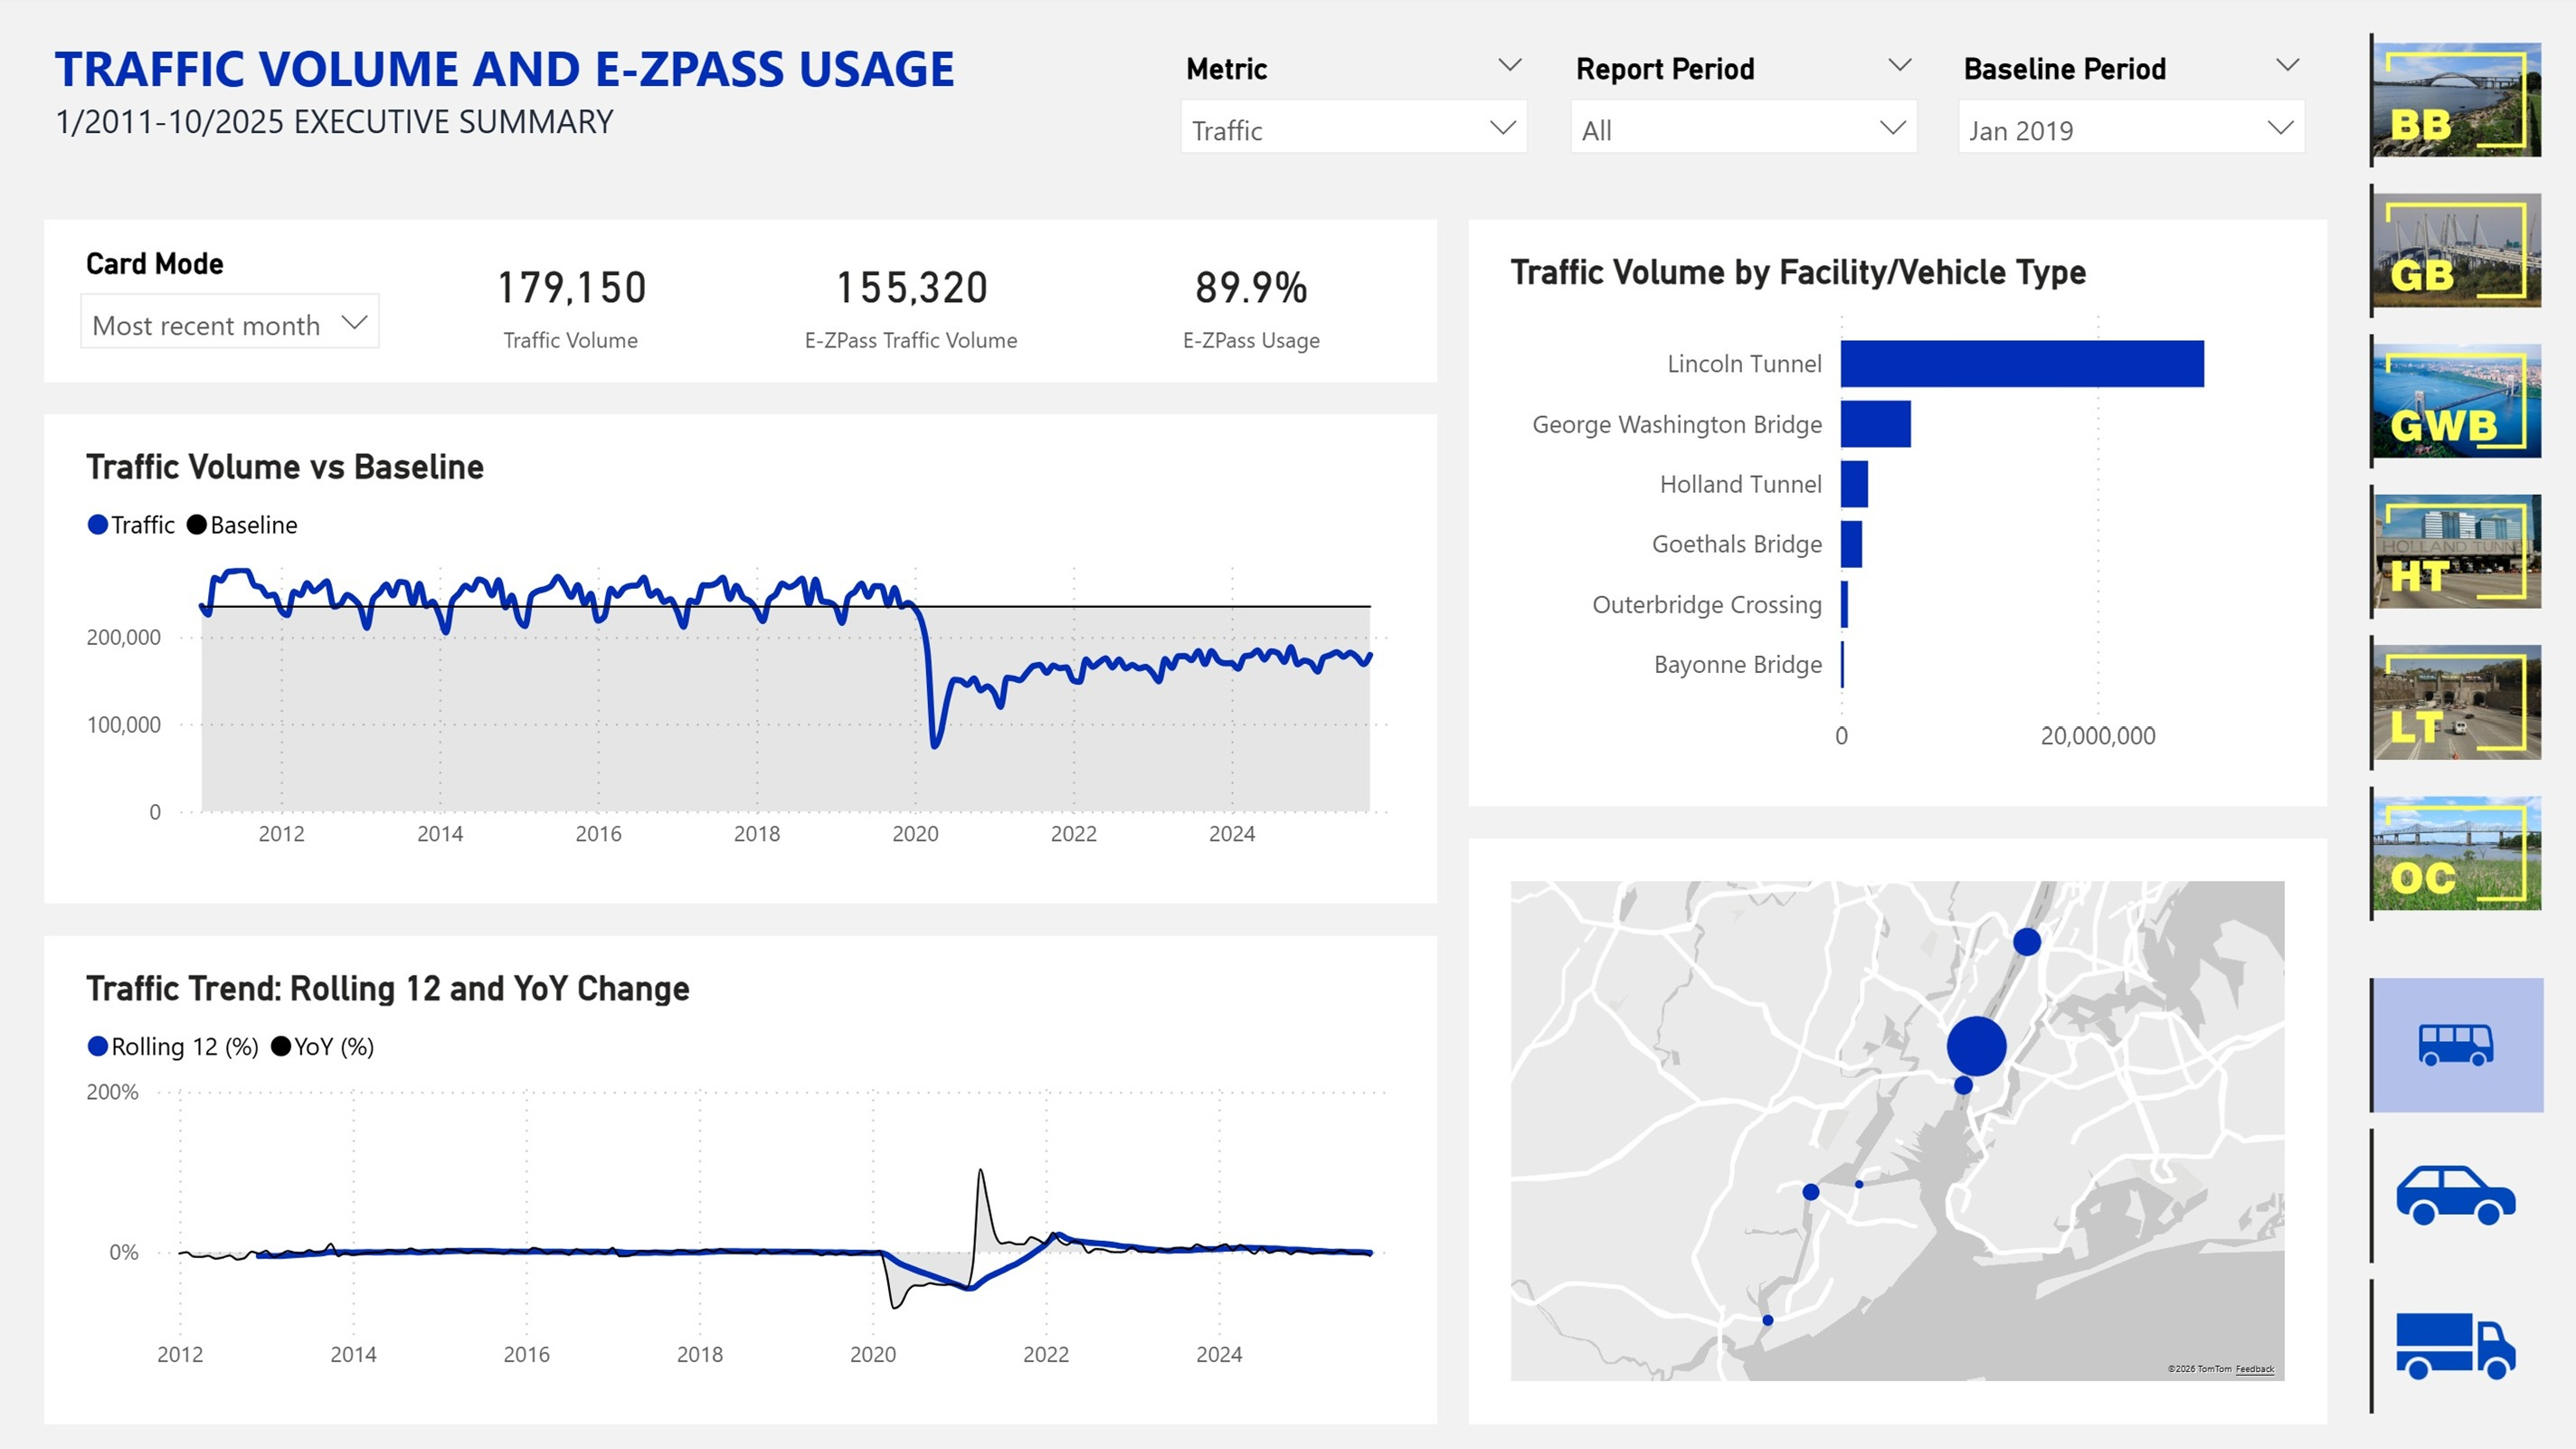

This screenshot's page, from the dashboard's own definition file:
{"tool":"powerbi","page":{"name":"Exec. Overview","canvas":[1280,720],"ordinal":0},"visuals":[{"type":"shape","box":[24,112,688,80],"z":0},{"type":"shape","box":[24,208,688,240],"z":1000},{"type":"shape","box":[24,464,688,240],"z":2000},{"type":"shape","box":[728,112,424,288],"z":3000},{"type":"shape","box":[728,416,424,288],"z":4000},{"type":"textbox","box":[24,16,480,80],"z":5000},{"type":"advancedSlicerVisual","fields":{"Values":["ref Vehicle Types.Image URL"]},"box":[1168,16,96,448],"z":6000},{"type":"advancedSlicerVisual","fields":{"Values":["ref Traffic Data.Image URL"]},"box":[1168,480,96,224],"z":7000},{"type":"slicer","fields":{"Values":["Calendar.Year","Calendar.Quarter","Calendar.Month"]},"box":[768,24,192,64],"z":8000},{"type":"slicer","fields":{"Values":["Traffic/E-ZPass Usage.Traffic/E-ZPass Usage"]},"box":[576,24,192,64],"z":9000},{"type":"slicer","fields":{"Values":["Calendar Baseline.Month"]},"box":[960,24,192,64],"z":10000},{"type":"slicer","fields":{"Values":["_ref Card Mode.Mode"]},"box":[32,120,168,64],"z":11000},{"type":"card","fields":{"Values":["_ref Card Mode._m Card Total Traffic"]},"box":[200,120,168,64],"z":12000},{"type":"card","fields":{"Values":["_ref Card Mode._m Card Total Traffic using EZPass"]},"box":[368,120,168,64],"z":13000},{"type":"card","fields":{"Values":["_ref Card Mode._m Card EZPass Usage"]},"box":[536,120,168,64],"z":14000},{"type":"lineChart","fields":{"Y":["Traffic._m Total Traffic","_prm Traffic/E-ZPass Usage._m Selected Baseline"],"Category":["Calendar.Date.Variation.Date Hierarchy.Year","Calendar.Date.Variation.Date Hierarchy.Quarter","Calendar.Date.Variation.Date Hierarchy.Month"]},"box":[40,224,656,208],"z":15000},{"type":"lineChart","fields":{"Category":["Calendar.Date.Variation.Date Hierarchy.Year","Calendar.Date.Variation.Date Hierarchy.Quarter","Calendar.Date.Variation.Date Hierarchy.Month"],"Y":["_prm Traffic/E-ZPass Usage._m Selected Rolling 12 (%)","_prm Traffic/E-ZPass Usage._m Selected YoY (%)"]},"box":[40,480,656,208],"z":16000},{"type":"clusteredBarChart","fields":{"Y":["Traffic._m Total Traffic"],"Category":["Traffic.Facility","Traffic.Vehicle Type"]},"box":[744,128,392,256],"z":17000},{"type":"azureMap","fields":{"Size":["Traffic._m Total Traffic"],"Y":["ref Vehicle Types.Latitude"],"X":["ref Vehicle Types.Longitude"]},"box":[744,432,392,256],"z":18000}]}

Visuals, with their boxes in screenshot pixels (x1, y1, x2, y2), scaled from the page's 1280x720 canvas onto the 2576x1449 screenshot:
shape: locate(48, 225, 1433, 386)
shape: locate(48, 419, 1433, 902)
shape: locate(48, 933, 1433, 1416)
shape: locate(1465, 225, 2318, 805)
shape: locate(1465, 838, 2318, 1416)
textbox: locate(48, 33, 1014, 194)
advancedSlicerVisual - ref Vehicle Types.Image URL: locate(2351, 33, 2543, 933)
advancedSlicerVisual - ref Traffic Data.Image URL: locate(2351, 966, 2543, 1416)
slicer - Calendar.Year x Calendar.Quarter: locate(1546, 48, 1932, 177)
slicer - Traffic/E-ZPass Usage.Traffic/E-ZPass Usage: locate(1160, 48, 1546, 177)
slicer - Calendar Baseline.Month: locate(1932, 48, 2318, 177)
slicer - _ref Card Mode.Mode: locate(64, 241, 402, 370)
card - _ref Card Mode._m Card Total Traffic: locate(402, 241, 741, 370)
card - _ref Card Mode._m Card Total Traffic using EZPass: locate(741, 241, 1079, 370)
card - _ref Card Mode._m Card EZPass Usage: locate(1079, 241, 1416, 370)
lineChart - Traffic._m Total Traffic x _prm Traffic/E-ZPass Usage._m Selected Baseline: locate(80, 450, 1401, 869)
lineChart - Calendar.Date.Variation.Date Hierarchy.Year x Calendar.Date.Variation.Date Hierarchy.Quarter: locate(80, 966, 1401, 1385)
clusteredBarChart - Traffic._m Total Traffic x Traffic.Facility: locate(1497, 258, 2287, 772)
azureMap - Traffic._m Total Traffic x ref Vehicle Types.Latitude: locate(1497, 869, 2287, 1385)
